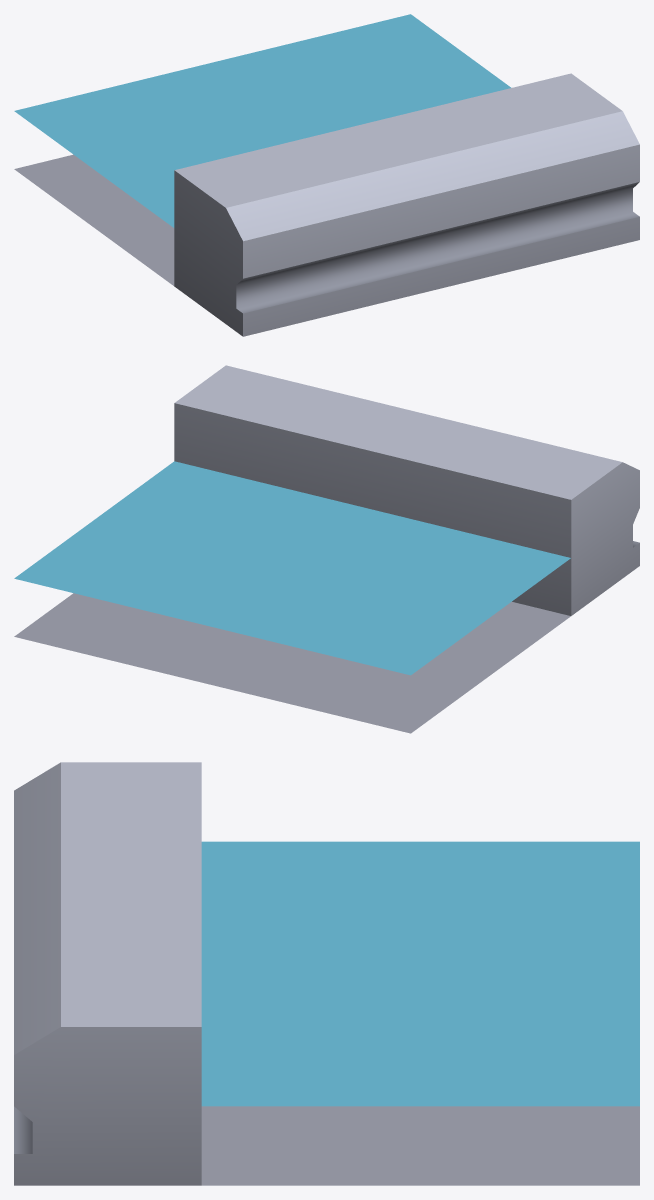
Rendered from fountain-edge.glb.
The picture shows the model from 3 angles, top to bottom: view 1: azimuth 30°, elevation 25°; view 2: azimuth 150°, elevation 25°; view 3: azimuth 270°, elevation 25°; orthographic projection. The views are drawn at different scales.
Parts seen in each view (by area): view 1: fountain-edge; view 2: fountain-edge; view 3: fountain-edge.
Boxes of the visible parts, x1,y1,x2,y2 form: fountain-edge: [14, 14, 639, 336]; fountain-edge: [14, 365, 639, 733]; fountain-edge: [14, 762, 639, 1185].
Bounding box in the file's own units: 1 × 0.28 × 1.
